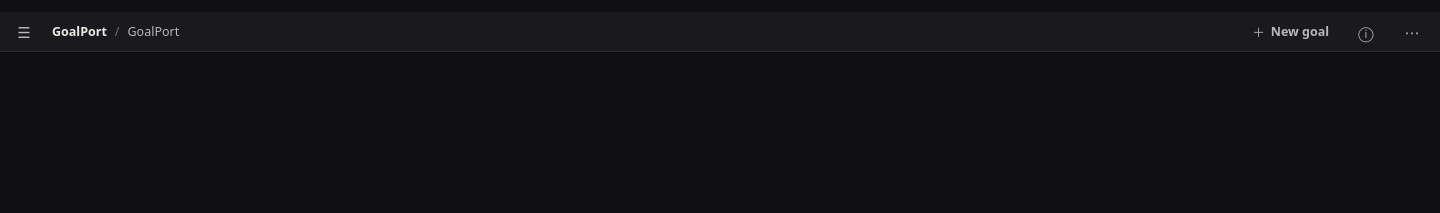
Test: TitleBar application menu › Escape closes the menu
Click the button named "Application menu" at (1412, 32), box [1392,12,1432,52]
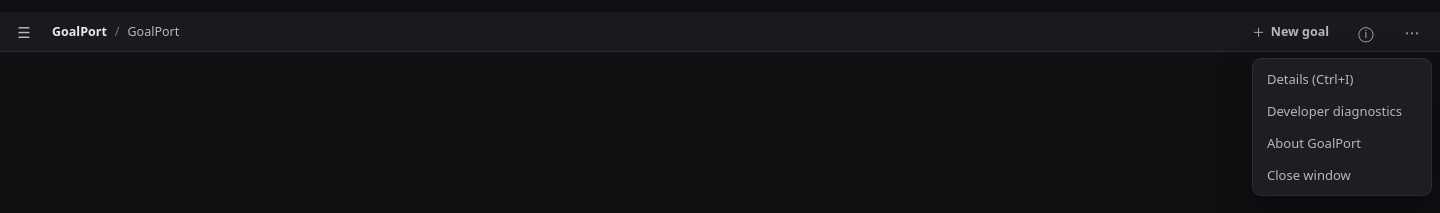
Press Escape in the menu, box [1257,63,1427,191]
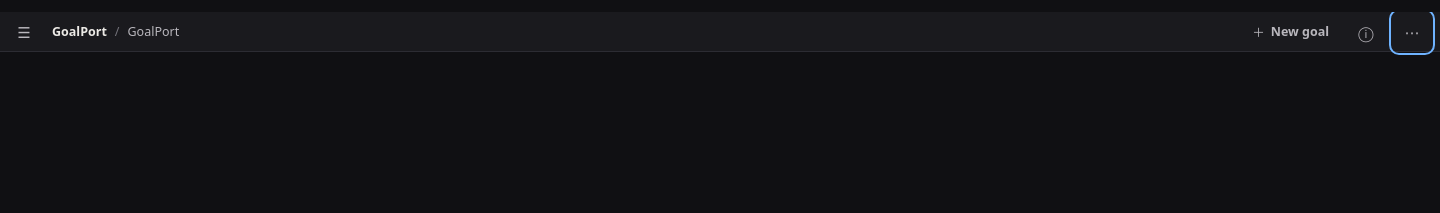
Check: the menu is gone
